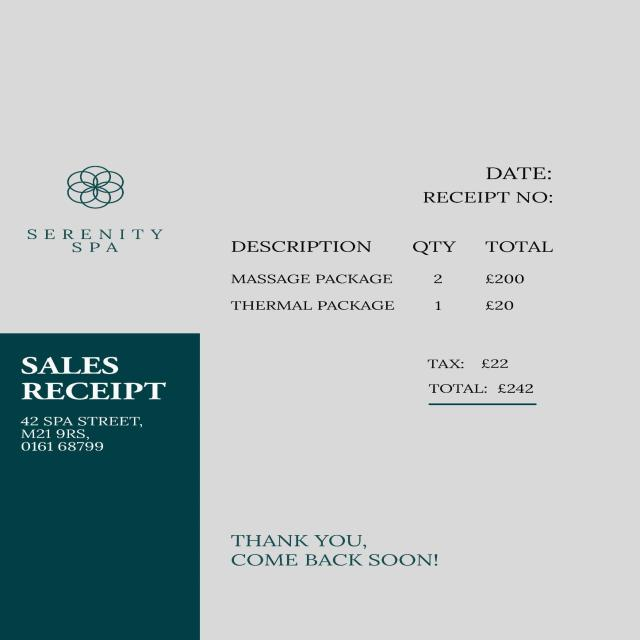paragraph: (226, 529, 443, 576), (12, 355, 182, 404), (419, 347, 551, 407), (423, 164, 571, 208), (21, 225, 170, 261), (21, 414, 142, 454)
table: (226, 237, 574, 319)
